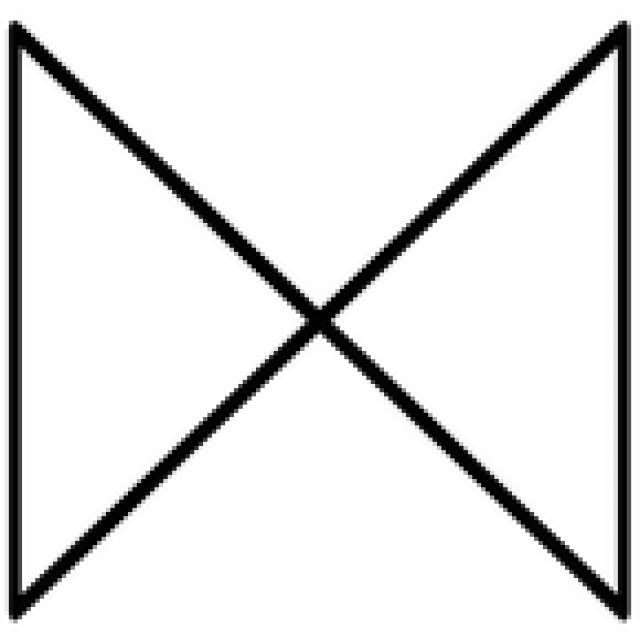Gate valve: (320, 28, 631, 613), (14, 34, 319, 607)
